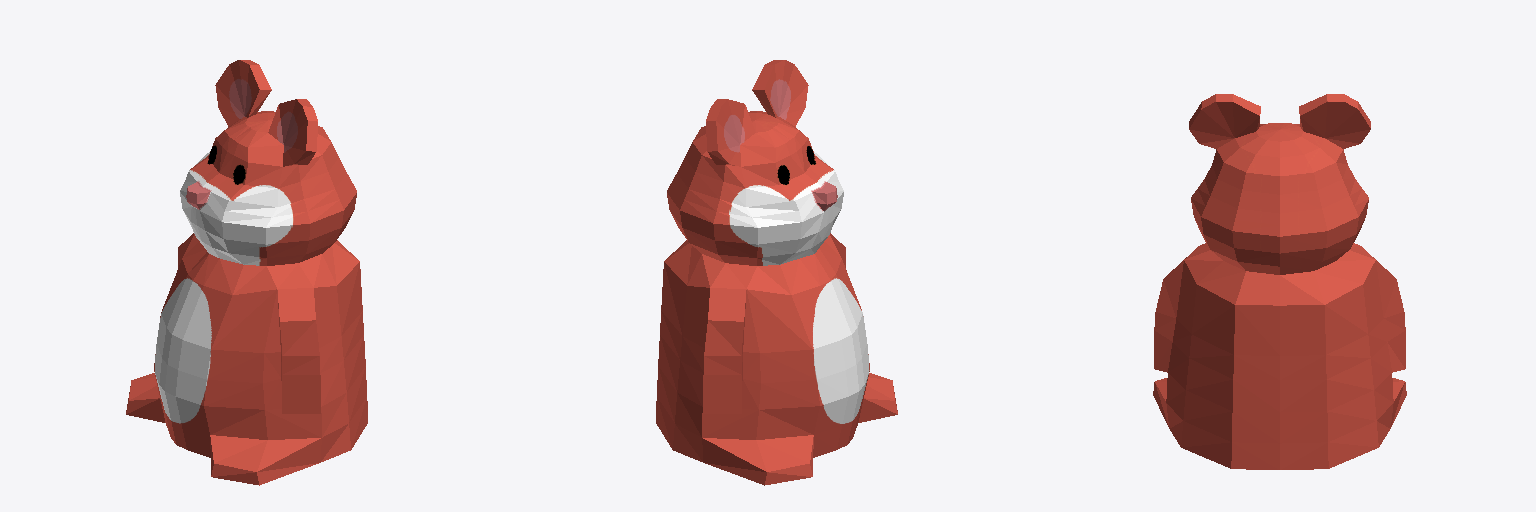
3 views of the same model, side by side, from view 1: azimuth 30°, elevation 25°; view 2: azimuth 150°, elevation 25°; view 3: azimuth 270°, elevation 25° (orthographic).
Parts seen in each view (by area): view 1: pPipe2; view 2: pPipe2; view 3: pPipe2.
Boxes of the visible parts, <box> form: pPipe2: <box>126,60,367,485</box>; pPipe2: <box>656,60,897,485</box>; pPipe2: <box>1153,94,1406,469</box>.
Size of the model in its own units: 1.06 by 1.89 by 1.28.
1 materials, 1 textured.